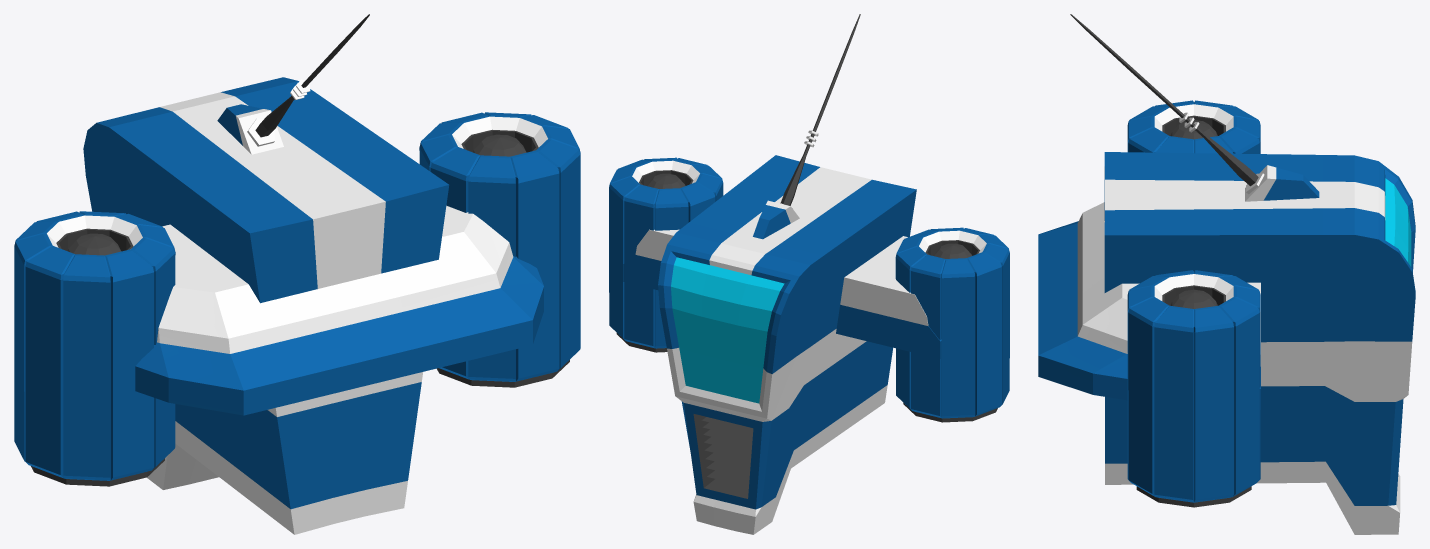
Rendered from Drone.obj.
3 views of the same model, side by side, from view 1: azimuth 30°, elevation 25°; view 2: azimuth 150°, elevation 25°; view 3: azimuth 270°, elevation 25° (orthographic). The views are drawn at different scales.
Visible parts, largest first — view 1: Cabin11_7, Hull03_10, Core03_9, Core03_8, Antenna02_13; view 2: Cabin11_7, Core03_9, Core03_8, Hull03_10, Antenna02_13; view 3: Cabin11_7, Core03_8, Hull03_10, Core03_9, Antenna02_13.
Boxes of the visible parts, x1,y1,x2,y2 form: Cabin11_7: (83,77,449,534); Hull03_10: (135,163,543,415); Core03_9: (14,211,175,486); Core03_8: (419,112,580,387); Antenna02_13: (217,14,369,154); Cabin11_7: (658,155,916,534); Core03_9: (895,227,1009,422); Core03_8: (609,157,723,352); Hull03_10: (623,229,941,358); Antenna02_13: (753,14,860,239); Cabin11_7: (1104,152,1415,534); Core03_8: (1127,270,1260,507); Hull03_10: (1038,202,1260,409); Core03_9: (1127,100,1260,153); Antenna02_13: (1070,14,1319,201).
Size of the model in its own units: 1.21 by 1.25 by 0.8461.
